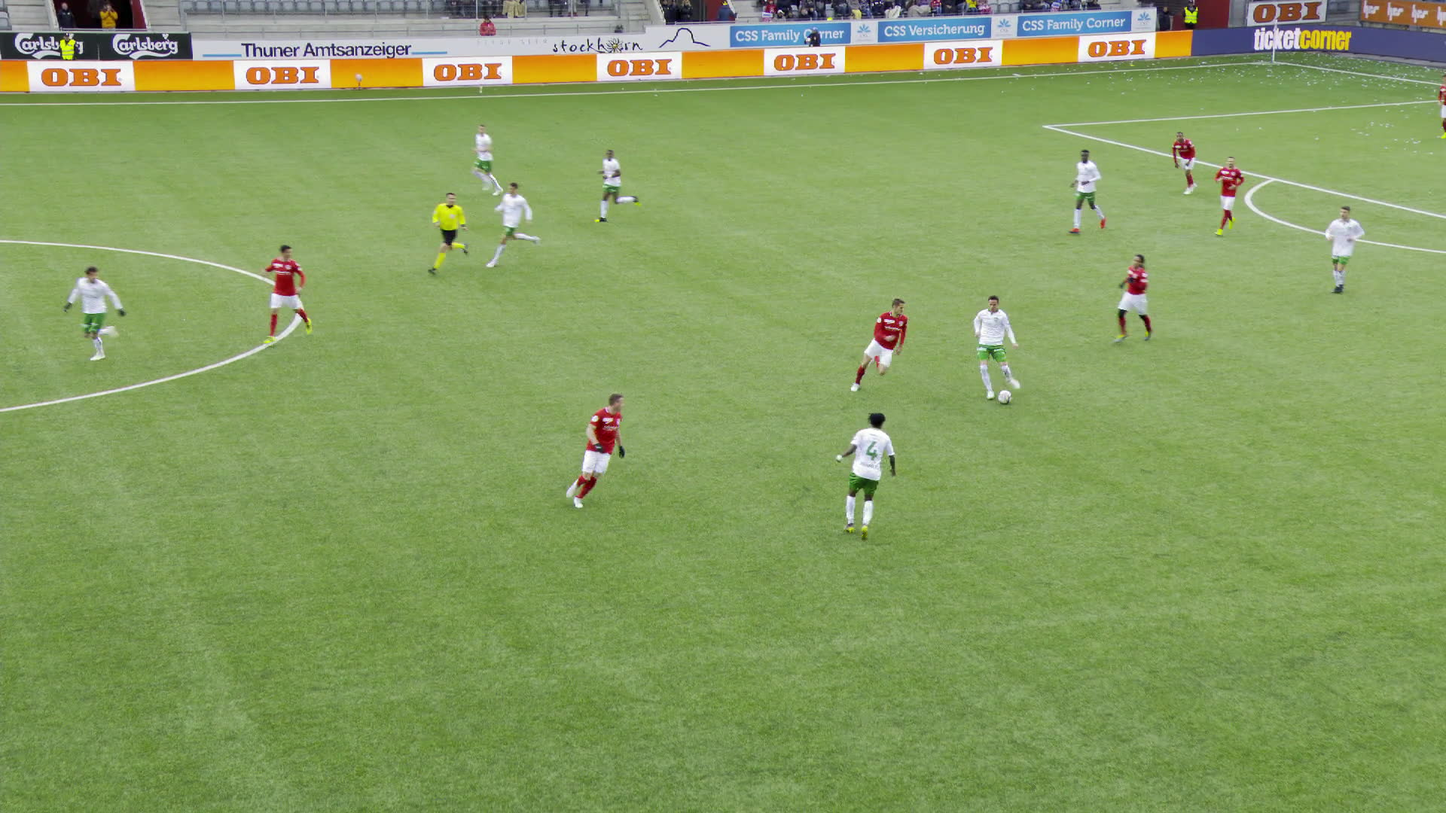ball: (999, 391, 1012, 403)
player: (831, 410, 898, 537), (569, 390, 627, 510), (65, 263, 130, 362), (846, 296, 911, 394), (265, 245, 318, 346), (972, 295, 1023, 399), (483, 181, 541, 269), (594, 148, 646, 224), (1323, 203, 1365, 294), (1120, 255, 1161, 343), (1074, 150, 1112, 236), (471, 123, 514, 196), (1210, 155, 1243, 236), (1172, 132, 1202, 196), (1441, 88, 1445, 140)
referee: (432, 193, 472, 276)
